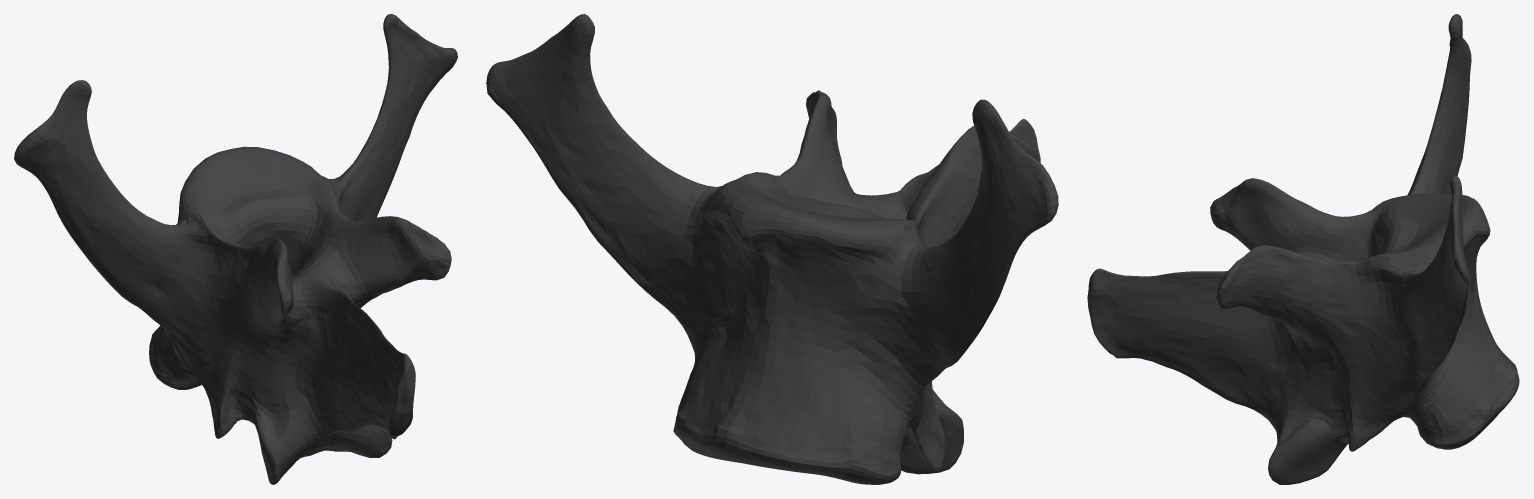
3 views of the same model, side by side, from view 1: azimuth 30°, elevation 25°; view 2: azimuth 150°, elevation 25°; view 3: azimuth 270°, elevation 25° (orthographic). The views are drawn at different scales.
Visible parts, largest first — view 1: l4_low; view 2: l4_low; view 3: l4_low.
Boxes of the visible parts, x1=… form: l4_low: x1=14, y1=14, x2=457, y2=484; l4_low: x1=486, y1=14, x2=1058, y2=484; l4_low: x1=1087, y1=14, x2=1519, y2=484.
Bounding box in the file's own units: 73 × 58.86 × 61.68.
1 material, 1 textured.
